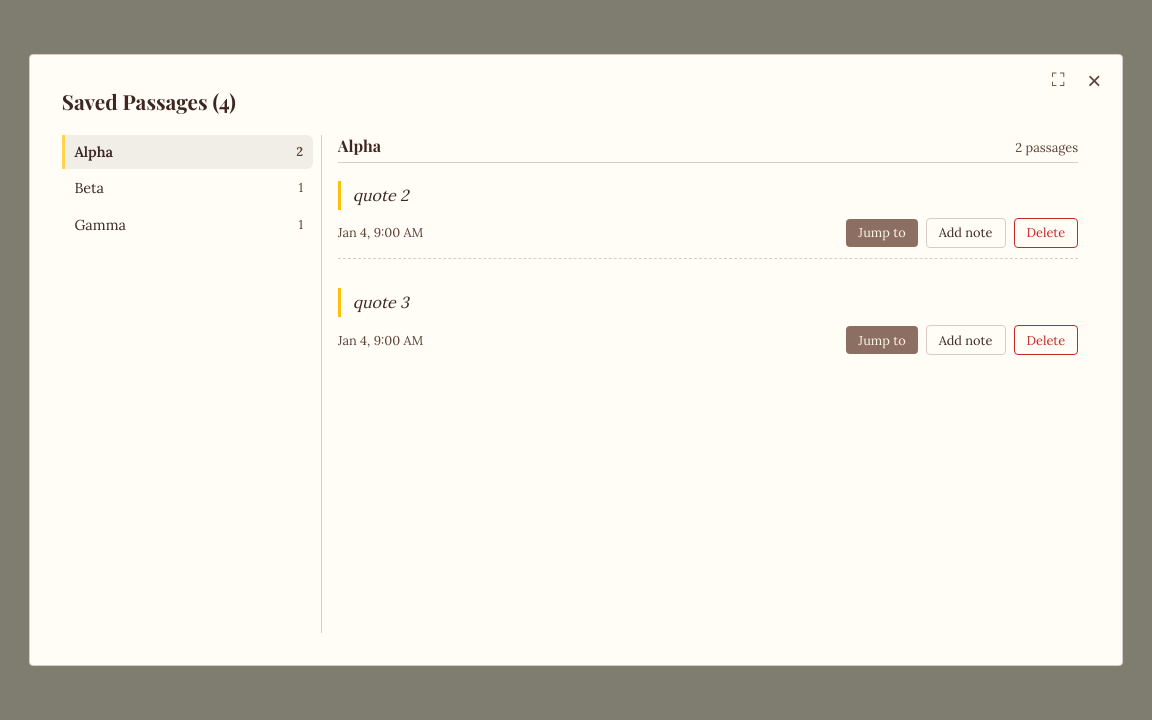
Scenario: ExplanationMarksPanel › switches chapter on click and reports it
The width and height of the screenshot is (1152, 720).
Click the button "Beta 1": x=187, y=188 left=62, top=171, right=313, bottom=205
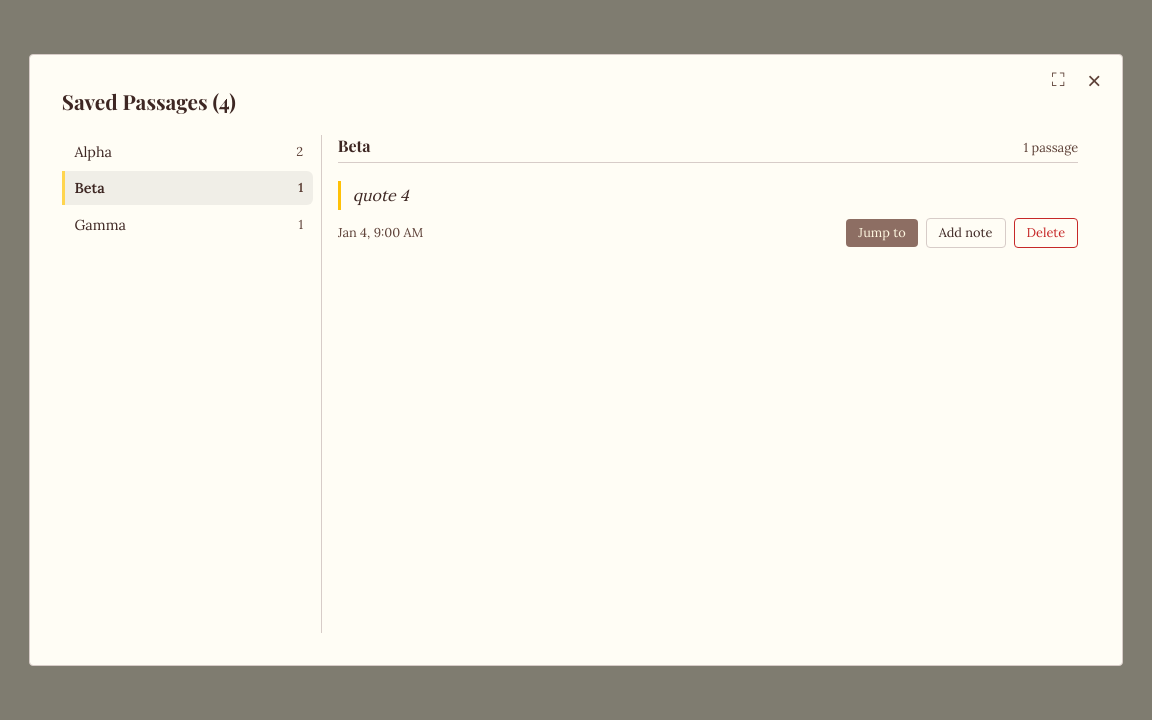
Now the heading "Beta" is shown, box left=338, top=135, right=371, bottom=156
Now the button "quote 4" is shown, box left=338, top=181, right=1078, bottom=210
Now the button "quote 2" is gone
